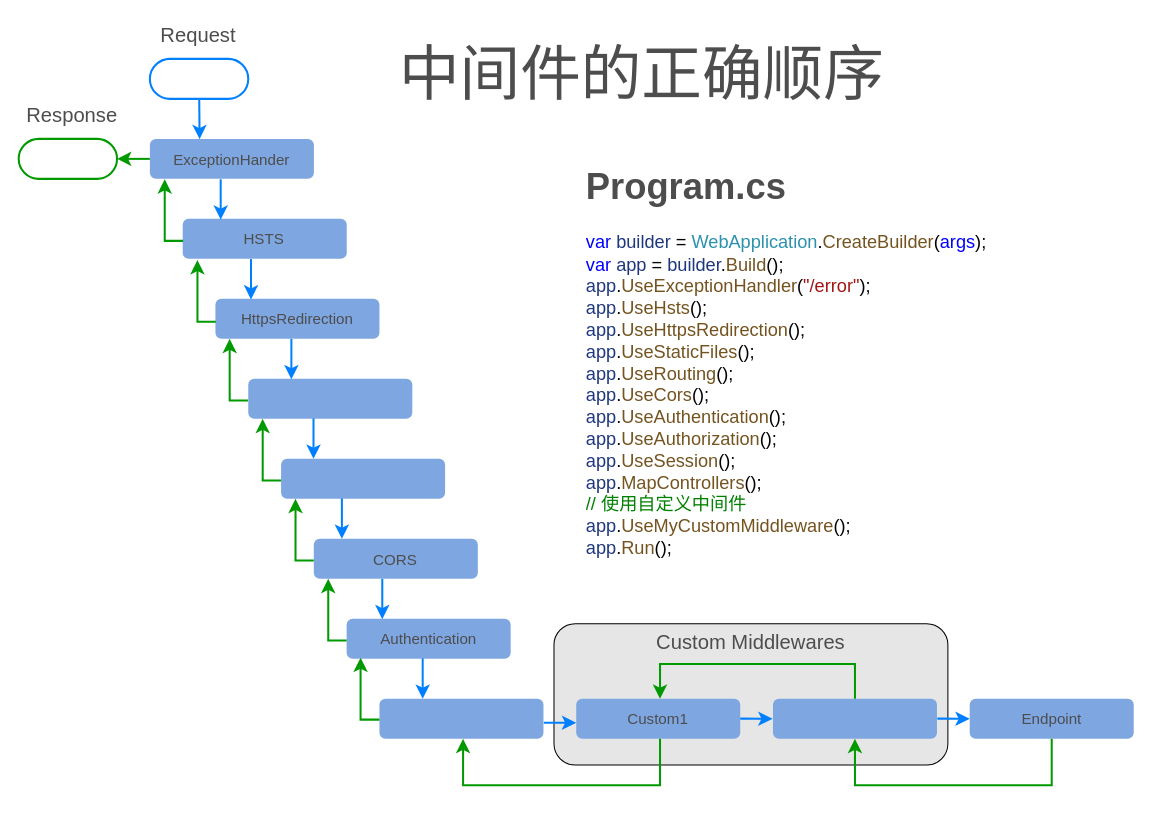
Image size: 1150x813. Some labels were removed from this diagram. Here are the shapes that lost their labels. From the top down, the centre of each, then its label:
At (330,398): "Static Files".
At (363,478): "Routing".
At (461,718): "Authorization".
At (854,718): "Custom2".
